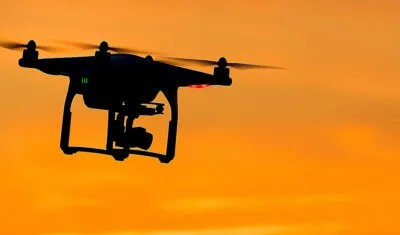maybay_khongnguoilai: (15, 29, 254, 172)
